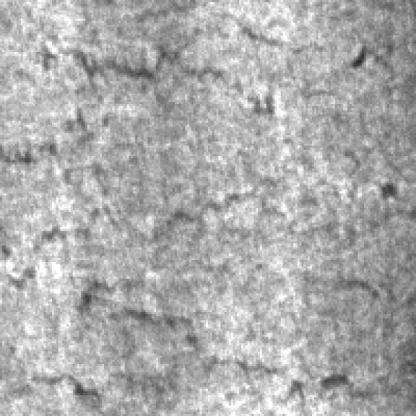crazing: (10, 264, 383, 412), (41, 156, 284, 347), (35, 6, 343, 112)
